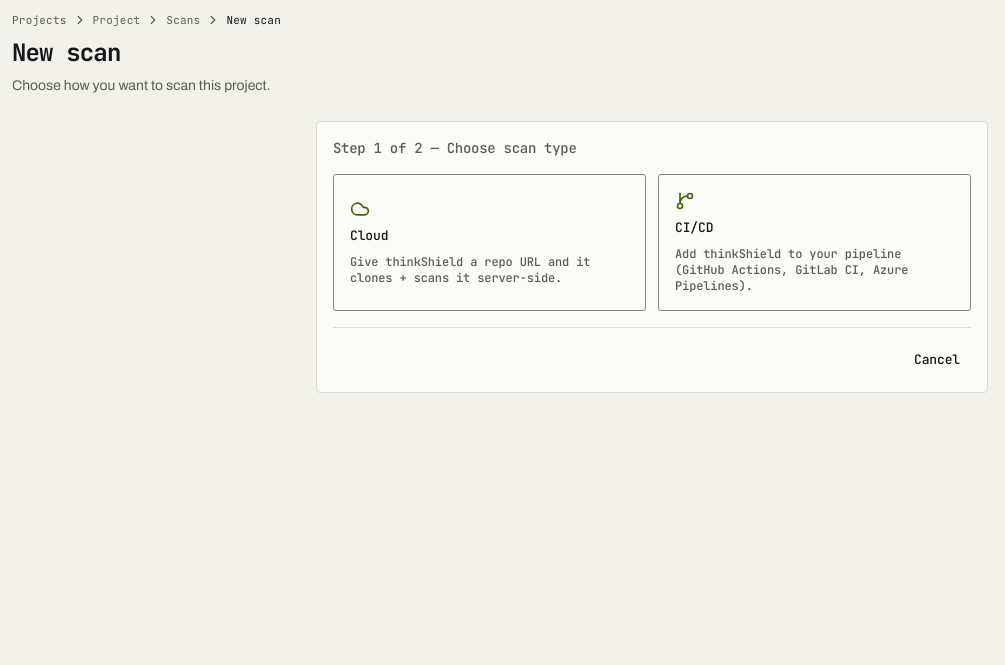
Test: New scan: the Already-scanned notice belongs to the selection it answered › re-selecting a connected repo clears it
Click the button "Cloud" at (369, 236), box [333,174,646,311]
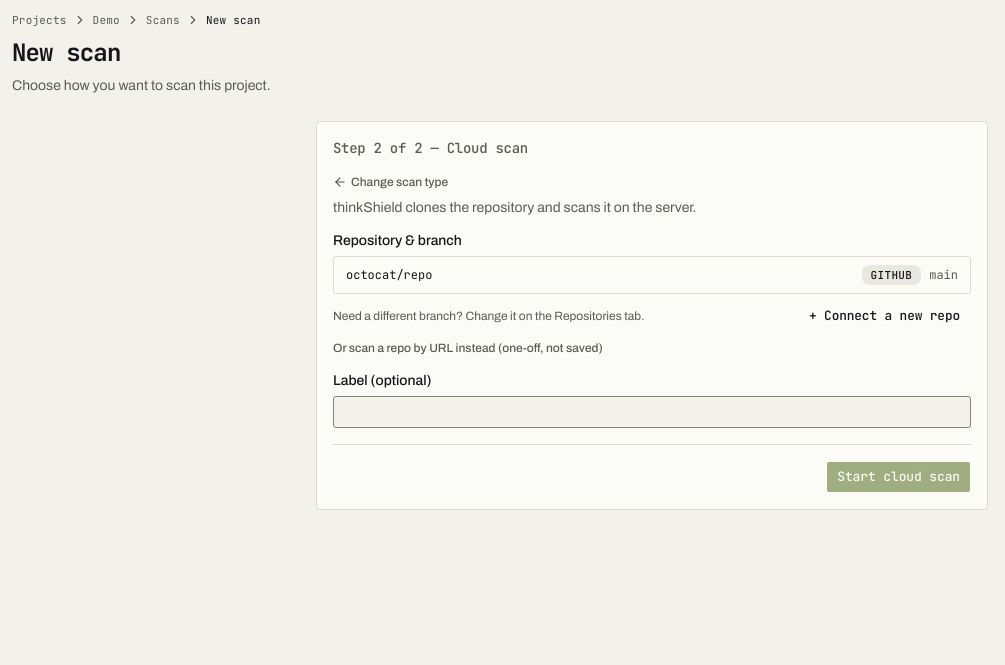
Click the button "octocat/repo GitHub main" at (389, 275), box [333,256,971,294]
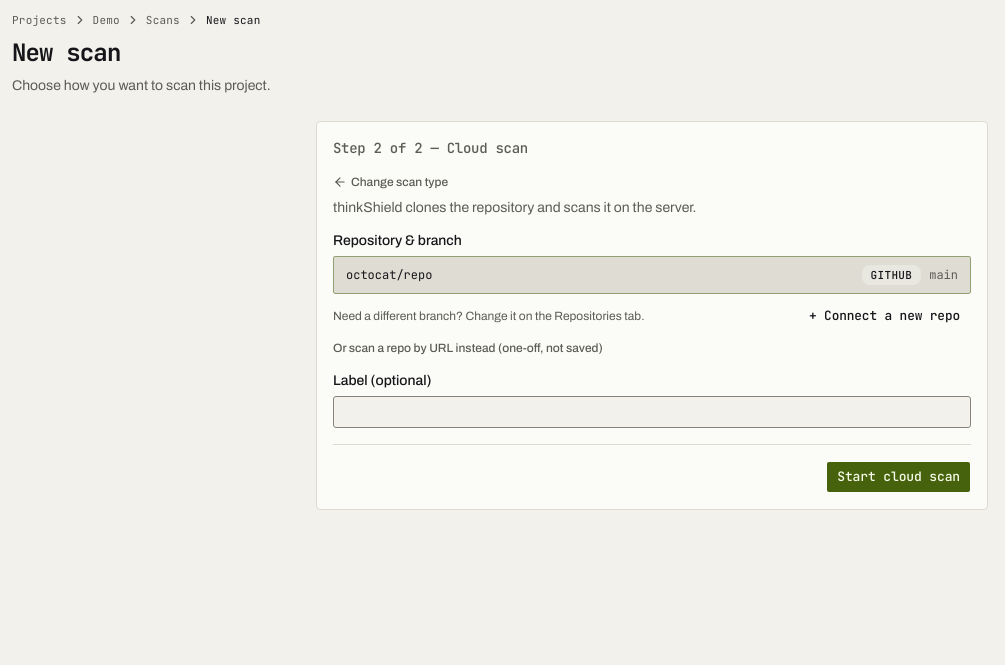
Click the button "Start cloud scan" at (899, 477), box [826,461,971,493]
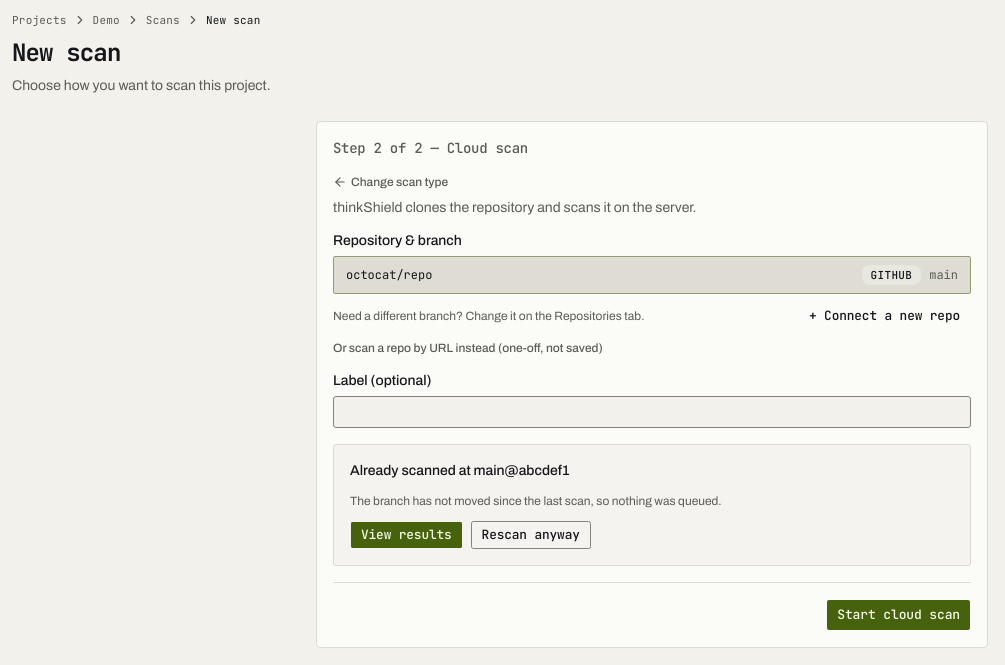
Result: the text "Already scanned at main@abcdef1" is shown at [350,463,570,478]
Click the button "octocat/repo GitHub main" at (389, 275), box [333,256,971,294]
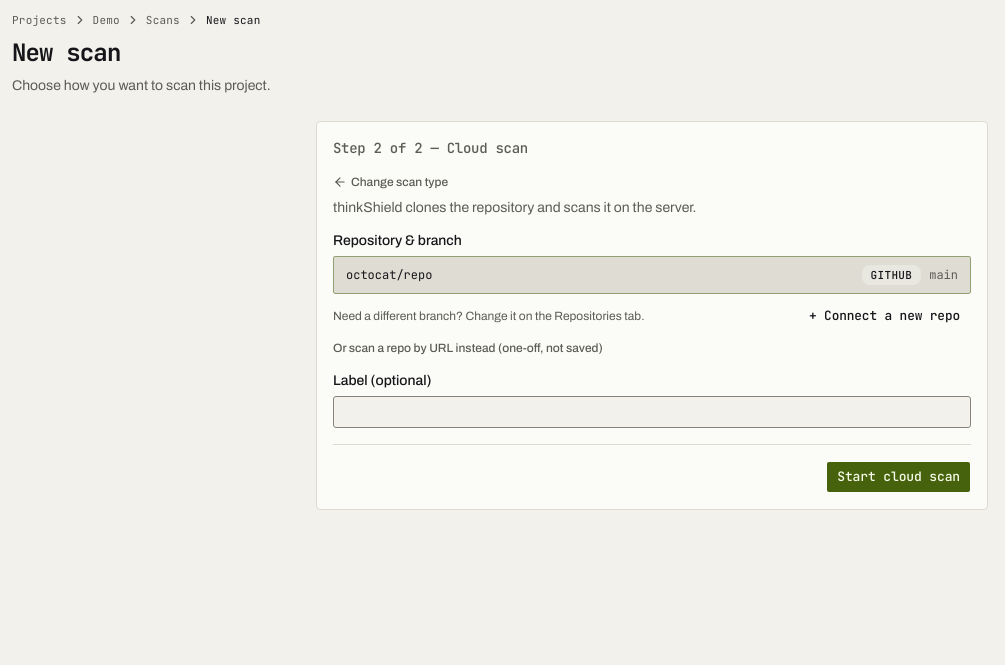
Result: the text "Already scanned" is gone
